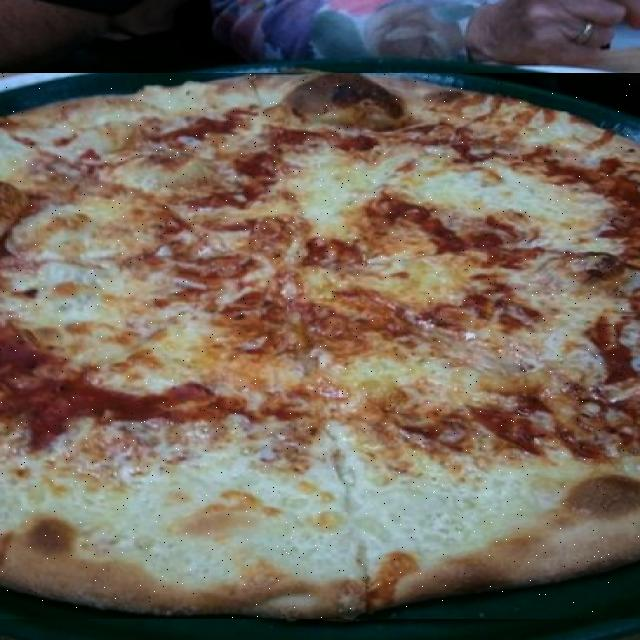Pizza: (0, 73, 640, 619)
